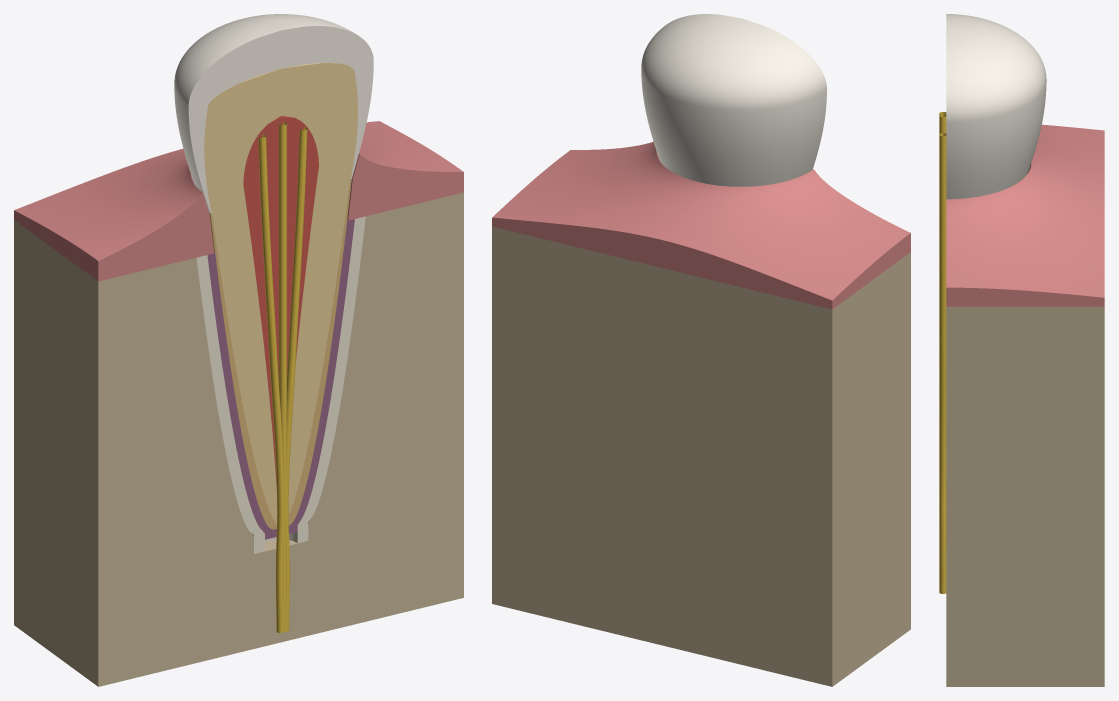
File: histology.glb
The picture shows the model from 3 angles, left to right: view 1: azimuth 30°, elevation 25°; view 2: azimuth 150°, elevation 25°; view 3: azimuth 270°, elevation 25°; orthographic projection. The views are drawn at different scales.
Parts seen in each view (by area): view 1: bone, dentin, gingiva, enamel, neurovascular, pulp, lamina-dura, pdl, cementum; view 2: bone, gingiva, enamel; view 3: bone, gingiva, enamel, neurovascular.
Part boxes in pixels (<box>): bone: <box>14,192,463,686</box>; dentin: <box>204,62,357,522</box>; gingiva: <box>14,121,463,281</box>; enamel: <box>174,14,373,213</box>; neurovascular: <box>258,122,307,632</box>; pulp: <box>243,116,318,492</box>; lamina-dura: <box>196,216,365,553</box>; pdl: <box>207,219,354,539</box>; cementum: <box>209,179,351,529</box>; bone: <box>492,226,910,686</box>; gingiva: <box>492,141,910,309</box>; enamel: <box>641,14,826,186</box>; bone: <box>946,306,1104,686</box>; gingiva: <box>946,124,1104,306</box>; enamel: <box>946,14,1046,199</box>; neurovascular: <box>939,112,946,593</box>.
Bounding box in the file's own units: 15 × 24 × 6.26.
